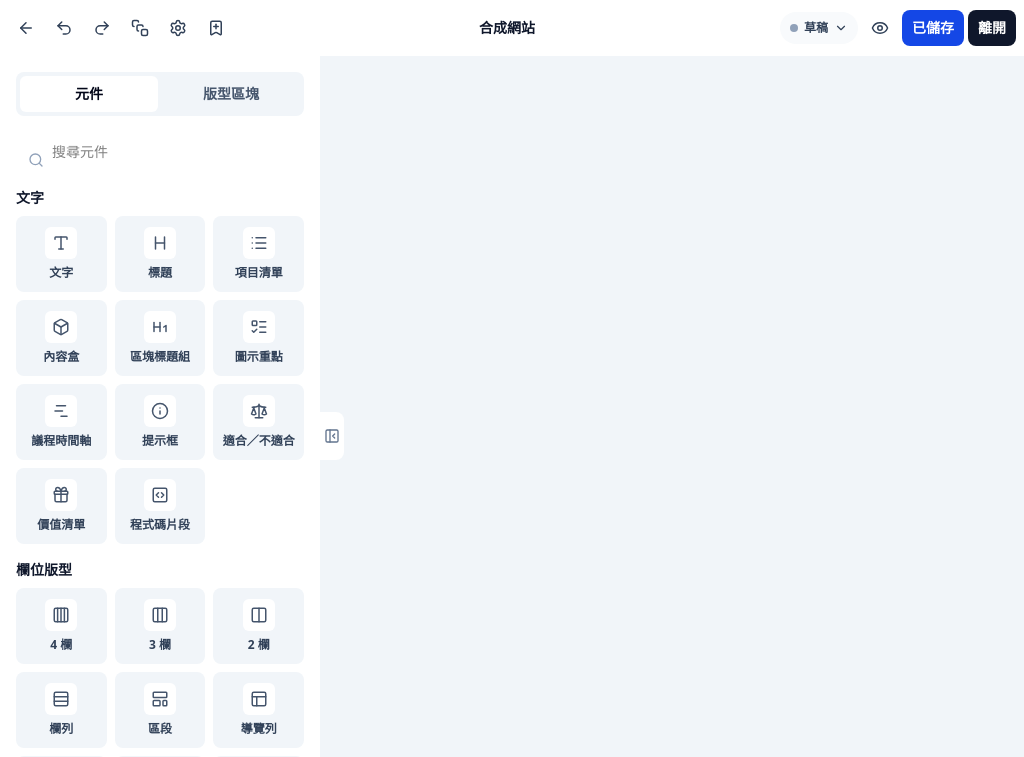
Test: landing page workspace save state › saves the current content and marks the revision clean
The image size is (1024, 757).
Click the button "區段". click: [160, 710]
box: [115,672,205,748]
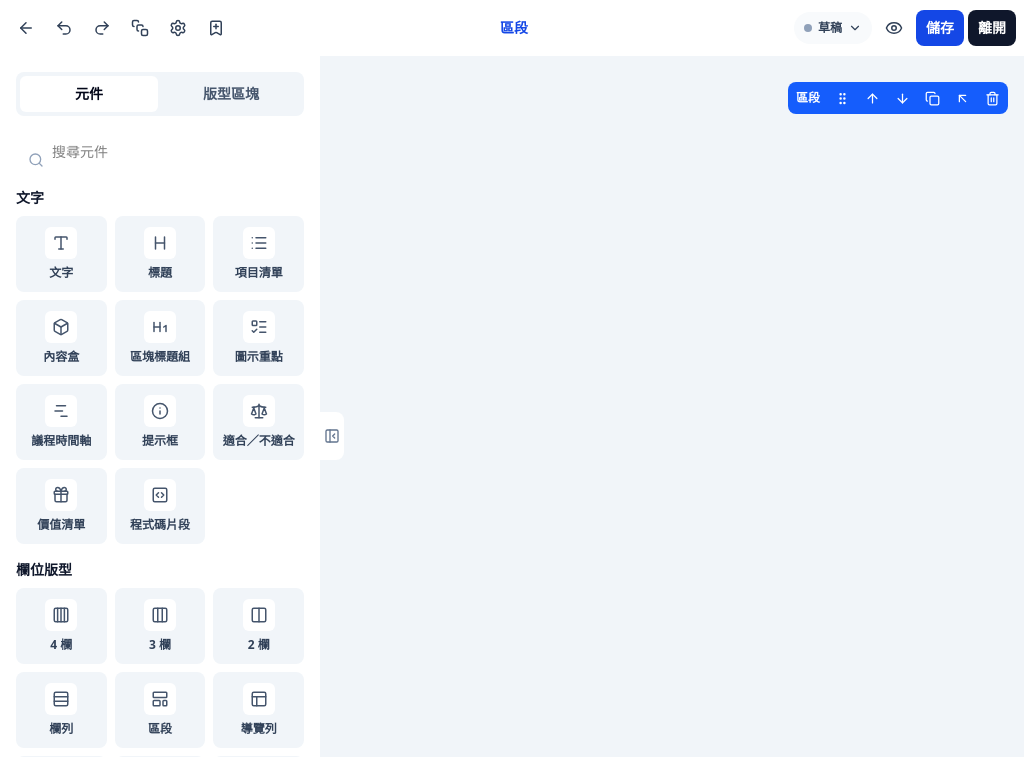
Click the button "儲存". click: [940, 28]
box: [916,10,964,46]
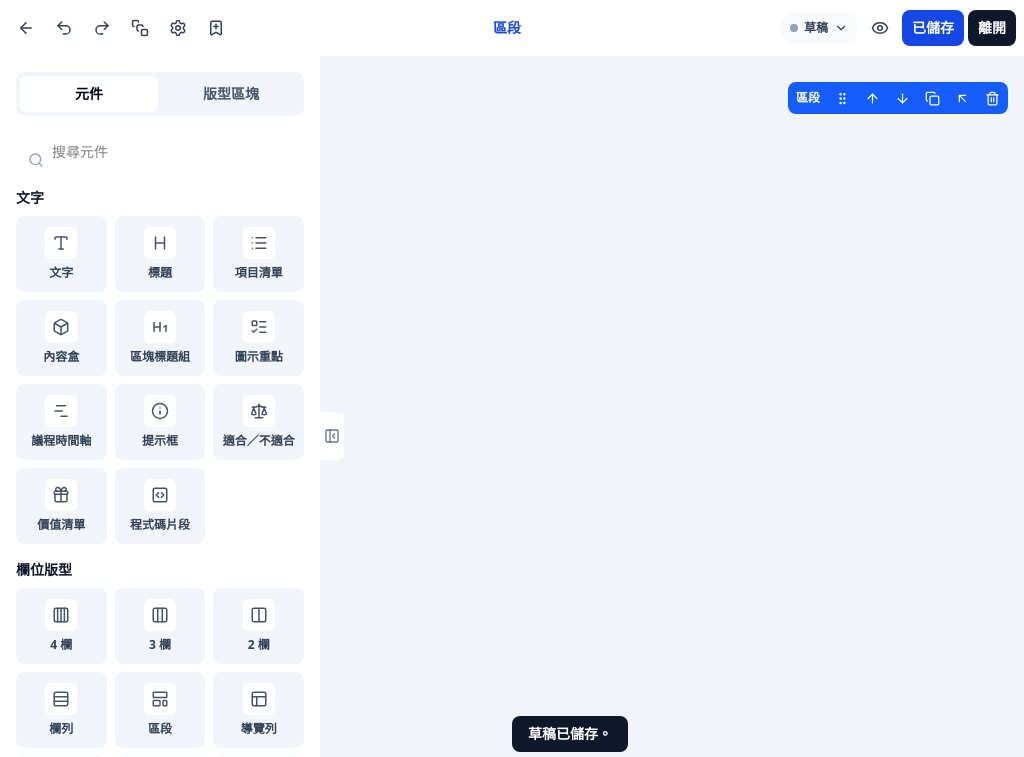
Expected: the button "已儲存" is disabled, [902,10,964,46]
Expected: the text "草稿已儲存。" is shown, [512,716,628,752]
